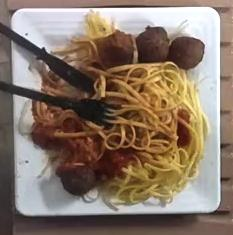meatball: (32, 102, 112, 195), (136, 26, 205, 70), (95, 30, 134, 68)
pasta: (86, 62, 208, 203)
